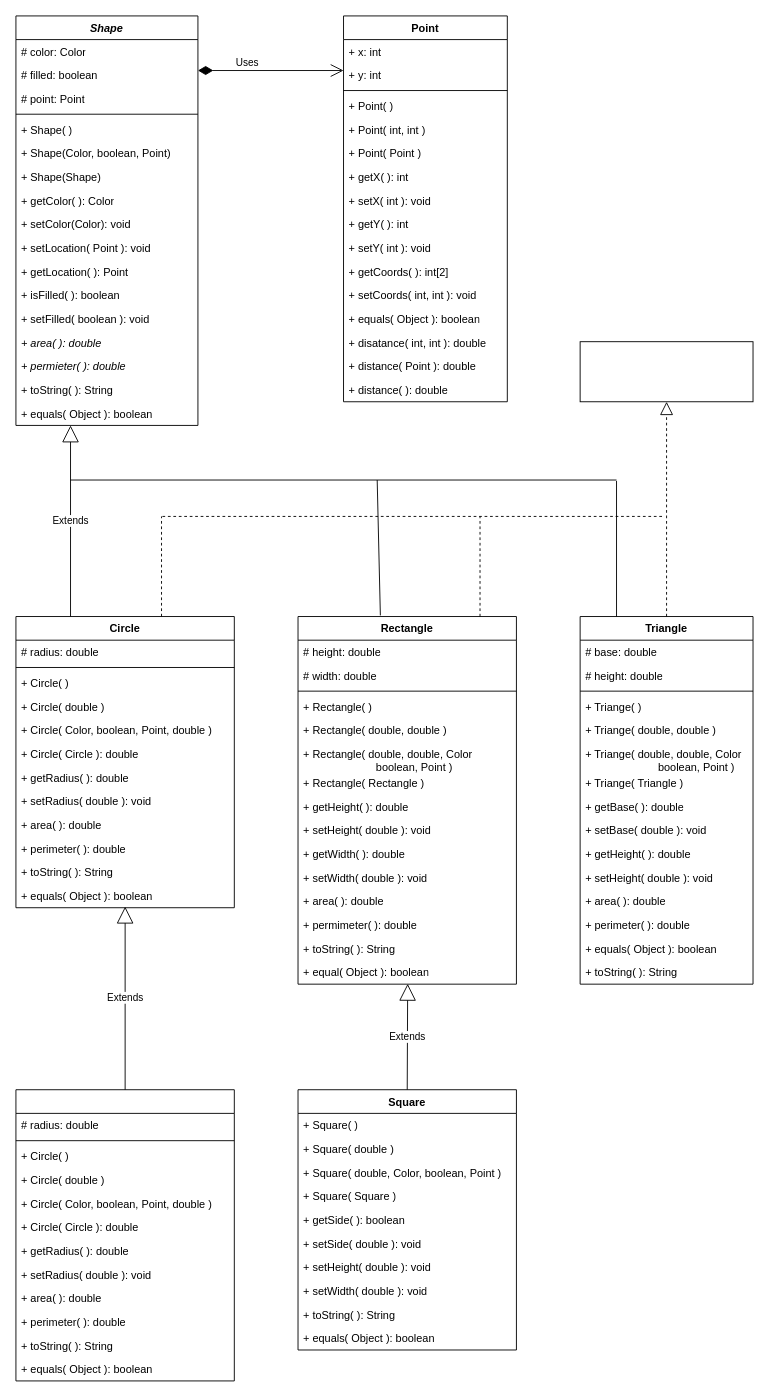
Image size: 769x1400. Some labels were removed from this diagram. Each missing label, with the box of its shape:
<<Interface>> Resizable + resize( int ): void: (579, 341, 753, 402)
SemiCircle: (15, 1089, 234, 1381)
